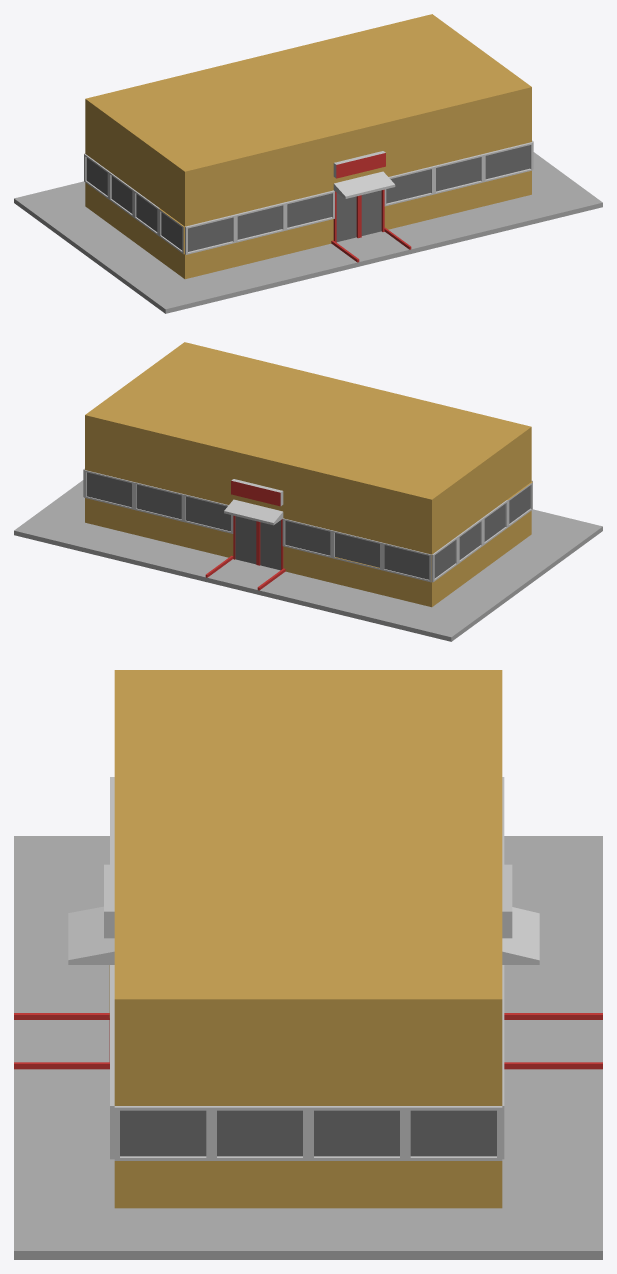
File: ParkCafe 1.fbx
3 views of the same model, one above another, from view 1: azimuth 30°, elevation 25°; view 2: azimuth 150°, elevation 25°; view 3: azimuth 270°, elevation 25° (orthographic). The views are drawn at different scales.
Parts seen in each view (by area): view 1: Cube, Cube.001; view 2: Cube, Cube.001; view 3: Cube, Cube.001.
Part boxes in pixels (x1,y1,x2,y2): Cube: (84,14,533,279); Cube.001: (14,152,602,313); Cube: (83,342,532,607); Cube.001: (14,480,602,641); Cube: (68,670,539,1208); Cube.001: (14,836,602,1259).
Bounding box in the file's own units: 2500 × 613 × 1500.
